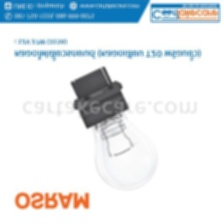light_bulb: (80, 100, 166, 196)
